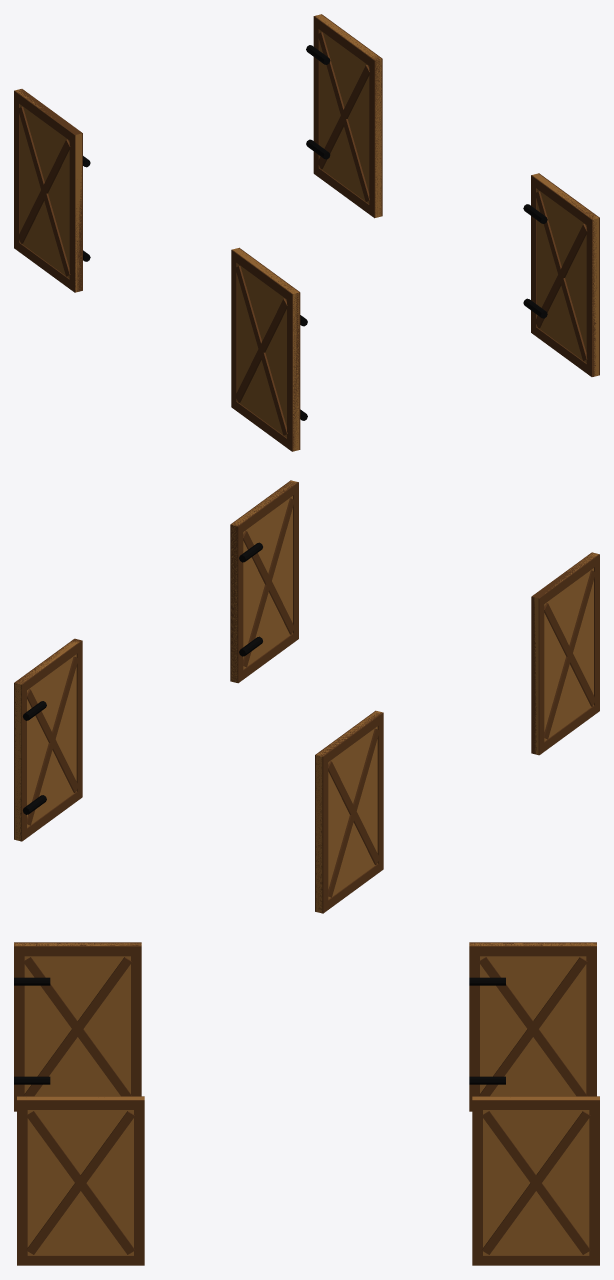
Rendered from PuertasCentralesDentro.obj.
The picture shows the model from 3 angles, top to bottom: view 1: azimuth 30°, elevation 25°; view 2: azimuth 150°, elevation 25°; view 3: azimuth 270°, elevation 25°; orthographic projection. The views are drawn at different scales.
Parts seen in each view (by area): view 1: Puerta_Establo, Puerta_Establo.003, Puerta_Establo.001, Puerta_Establo.002; view 2: Puerta_Establo, Puerta_Establo.003, Puerta_Establo.001, Puerta_Establo.002; view 3: Puerta_Establo.002, Puerta_Establo.003, Puerta_Establo.001, Puerta_Establo.
Boxes of the visible parts, x1,y1,x2,y2 form: Puerta_Establo: (231, 247, 307, 451); Puerta_Establo.003: (306, 14, 382, 218); Puerta_Establo.001: (14, 89, 90, 292); Puerta_Establo.002: (523, 173, 599, 376); Puerta_Establo: (531, 552, 599, 755); Puerta_Establo.003: (14, 638, 82, 841); Puerta_Establo.001: (315, 710, 383, 913); Puerta_Establo.002: (230, 480, 298, 683); Puerta_Establo.002: (17, 1096, 144, 1265); Puerta_Establo.003: (472, 1096, 599, 1265); Puerta_Establo.001: (469, 942, 596, 1111); Puerta_Establo: (14, 942, 141, 1111).
Size of the model in its own units: 2.47 by 1.2 by 3.86.
